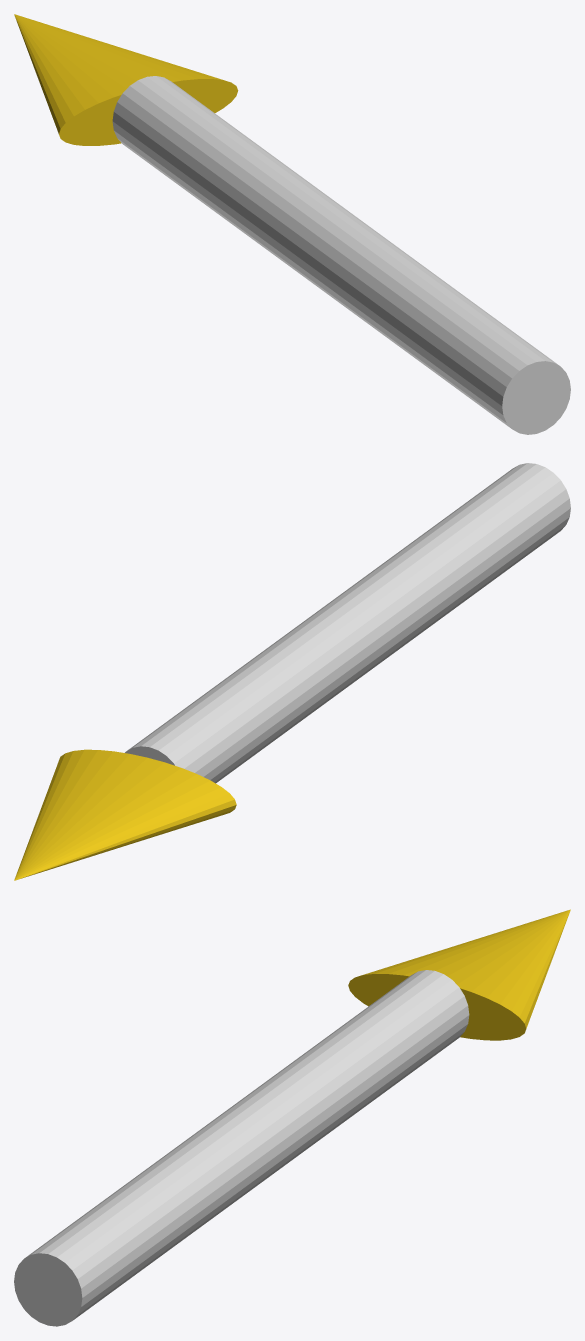
The model's file is rocketProjectile.fbx.
3 views of the same model, one above another, from view 1: azimuth 30°, elevation 25°; view 2: azimuth 150°, elevation 25°; view 3: azimuth 330°, elevation 25° (orthographic).
Visible parts, largest first — view 1: Cylinder, Cone; view 2: Cylinder, Cone; view 3: Cylinder, Cone.
Boxes of the visible parts, x1,y1,x2,y2 form: Cylinder: (112,76,570,434); Cone: (14,14,238,145); Cylinder: (125,463,570,783); Cone: (14,749,236,880); Cylinder: (14,970,469,1326); Cone: (348,909,570,1040).
Size of the model in its own units: 4.09 by 1.57 by 20.72.
